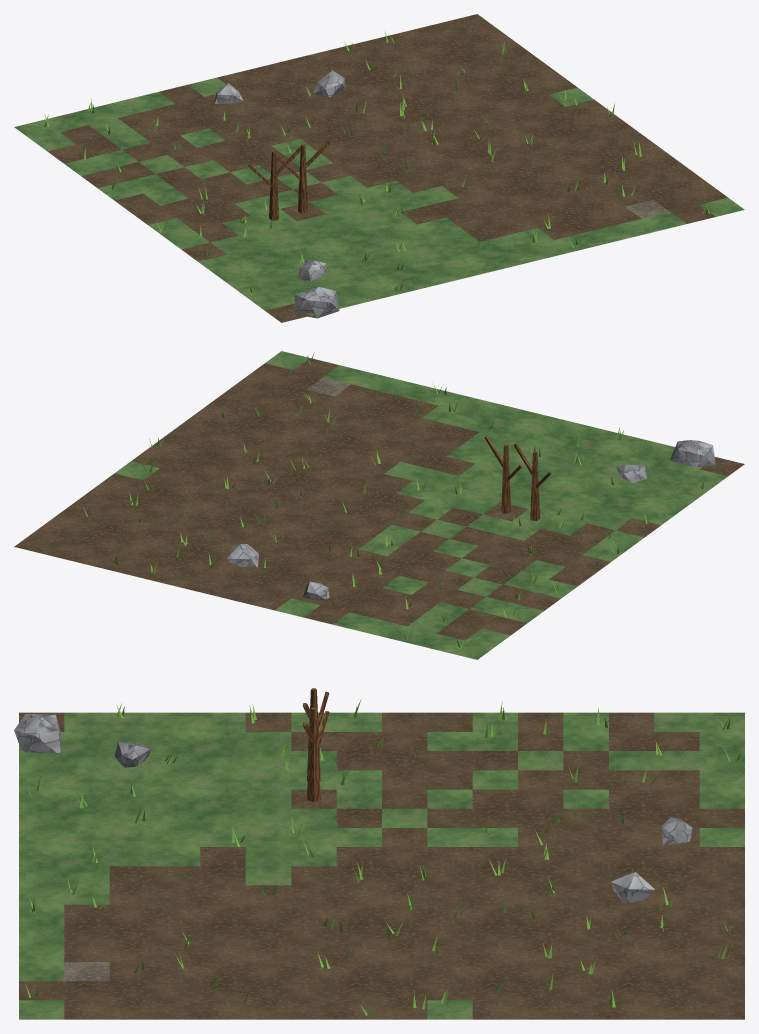
The model's file is chunk_0_18.glb.
3 views of the same model, one above another, from view 1: azimuth 30°, elevation 25°; view 2: azimuth 150°, elevation 25°; view 3: azimuth 270°, elevation 25° (orthographic). The views are drawn at different scales.
Parts seen in each view (by area): view 1: chunk_0_18; view 2: chunk_0_18; view 3: chunk_0_18.
Part boxes in pixels (box(x1,y1,x2,y2)): chunk_0_18: box(14, 14, 744, 322); chunk_0_18: box(14, 351, 744, 659); chunk_0_18: box(14, 688, 744, 1019).
Bounding box in the file's own units: 16.06 × 2.57 × 16.11.
6 materials, 5 textured.
